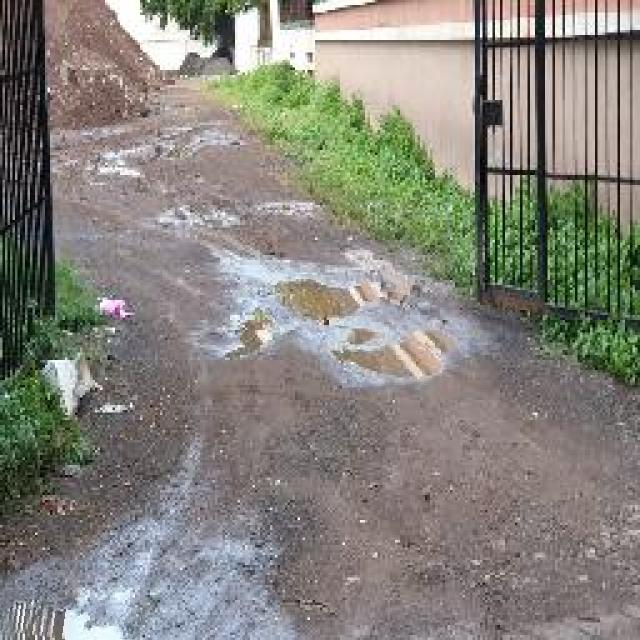puddle: (331, 331, 460, 389), (277, 275, 404, 332), (1, 595, 143, 640)
